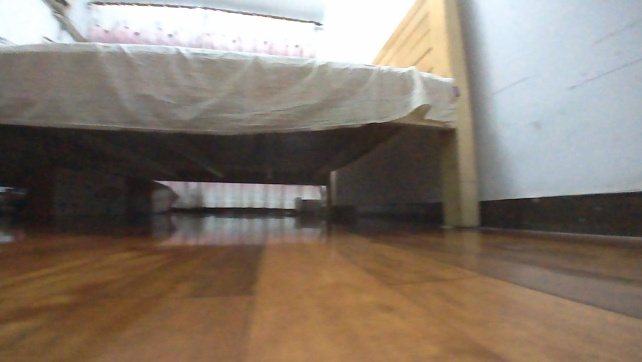bed1: (0, 0, 484, 231)
